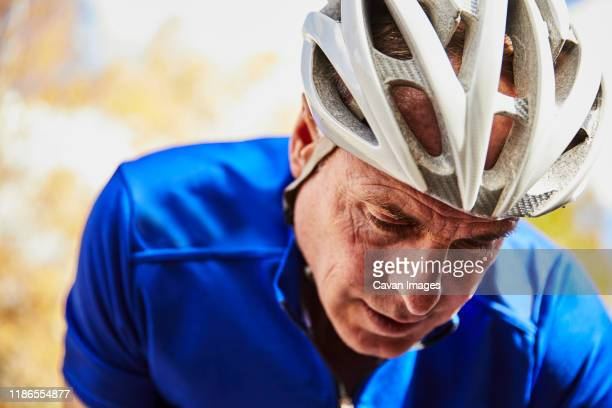helmet: (289, 1, 605, 358)
